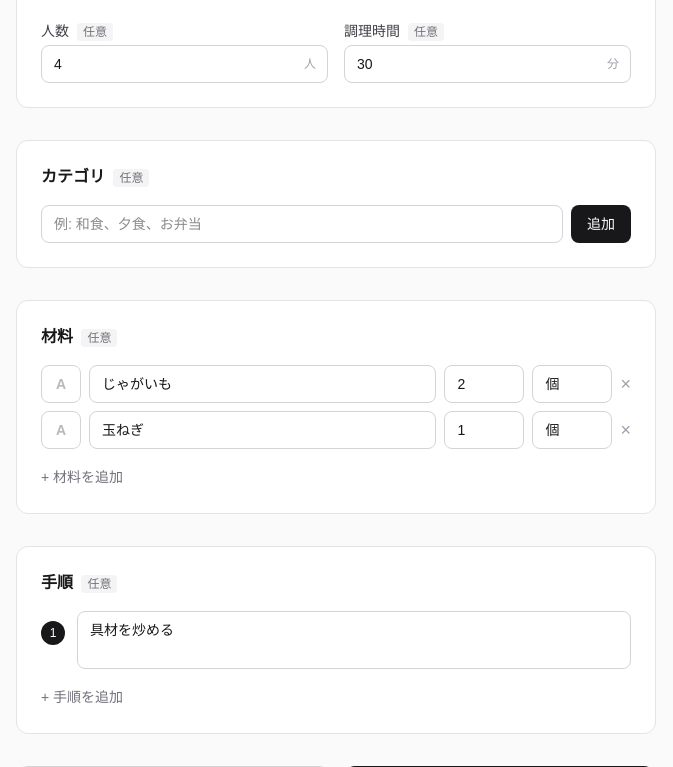
Test case: EditRecipeForm › × を押すと材料行が削除される
(page scrolled)
Check: the number of fields with placeholder "材料名" is 2, box [89,365,436,403]; [89,411,436,449]
What coordinates should you click on to do the following:
click the 1st button "×"
I would click on:
 (626, 384)
Its box is [620,375,631,393].
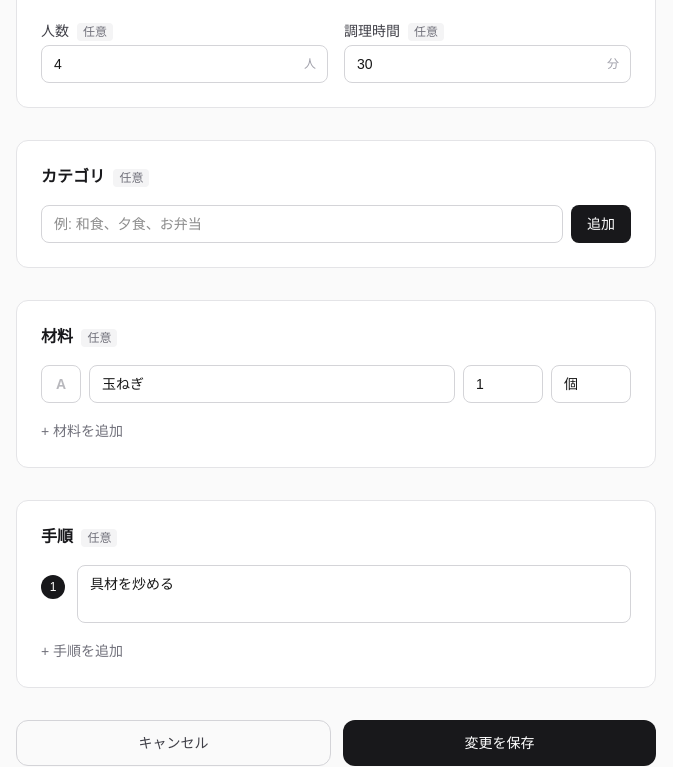
Check: the number of fields with placeholder "材料名" is 1, box [89,365,455,403]
